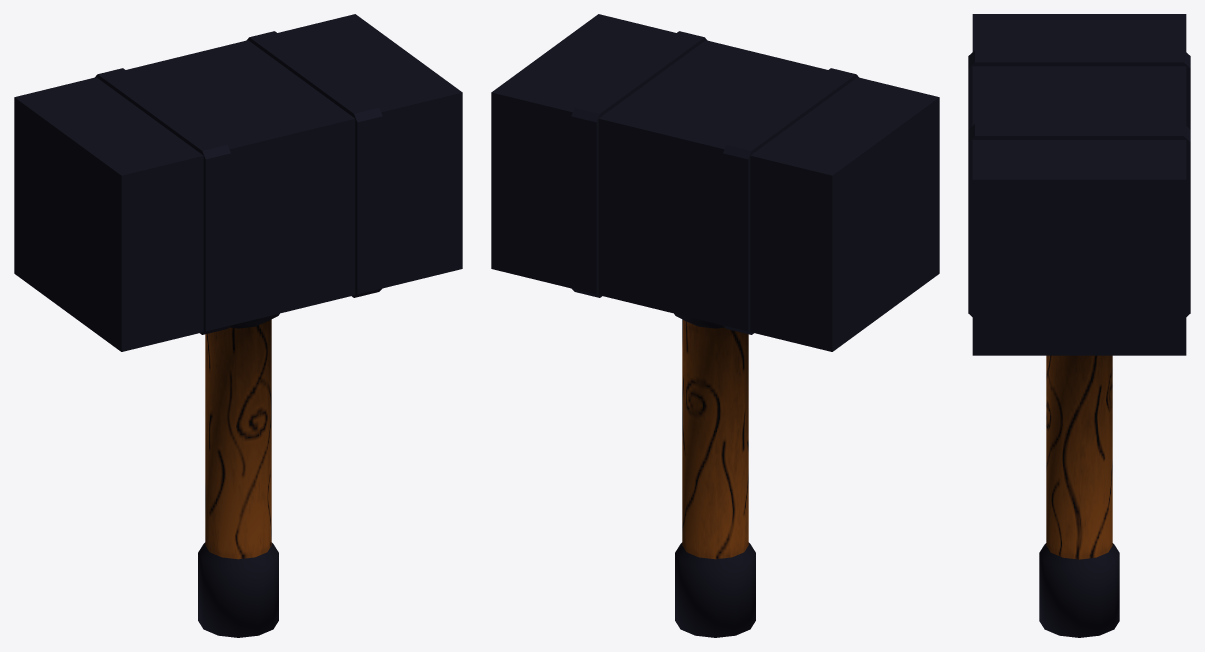
The model's file is molot.fbx.
The picture shows the model from 3 angles, left to right: view 1: azimuth 30°, elevation 25°; view 2: azimuth 150°, elevation 25°; view 3: azimuth 270°, elevation 25°; orthographic projection.
Visible parts, largest first — view 1: Cube.001, Cube.006; view 2: Cube.001, Cube.006; view 3: Cube.001, Cube.006.
Boxes of the visible parts, x1,y1,x2,y2 form: Cube.001: (14, 14, 462, 637); Cube.006: (95, 31, 382, 334); Cube.001: (491, 14, 939, 637); Cube.006: (571, 31, 858, 334); Cube.001: (972, 14, 1186, 637); Cube.006: (968, 50, 1190, 316).
Size of the model in its own units: 367 by 545 by 208.
